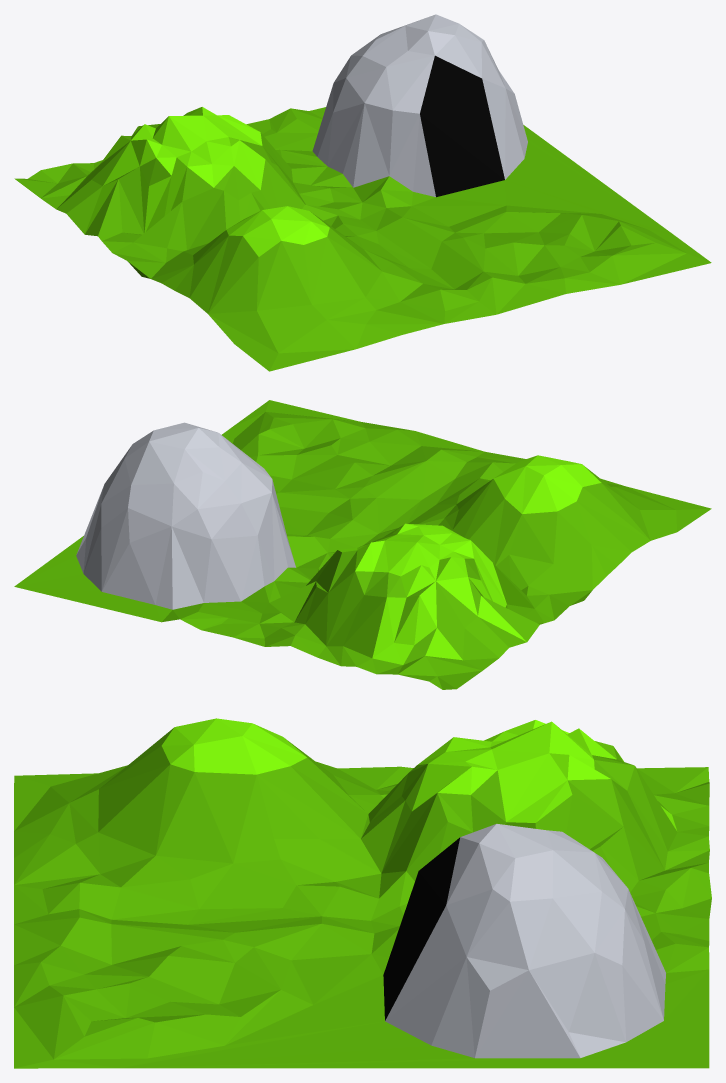
Rendered from MenuTerrain.fbx.
The picture shows the model from 3 angles, top to bottom: view 1: azimuth 30°, elevation 25°; view 2: azimuth 150°, elevation 25°; view 3: azimuth 270°, elevation 25°; orthographic projection. The views are drawn at different scales.
Parts seen in each view (by area): view 1: Plane; view 2: Plane; view 3: Plane.
Boxes of the visible parts, left/top/right/bottom form: Plane: left=14, top=14, right=711, bottom=371; Plane: left=14, top=400, right=711, bottom=689; Plane: left=14, top=718, right=711, bottom=1068.
Bounding box in the file's own units: 2005 × 556 × 2008.
